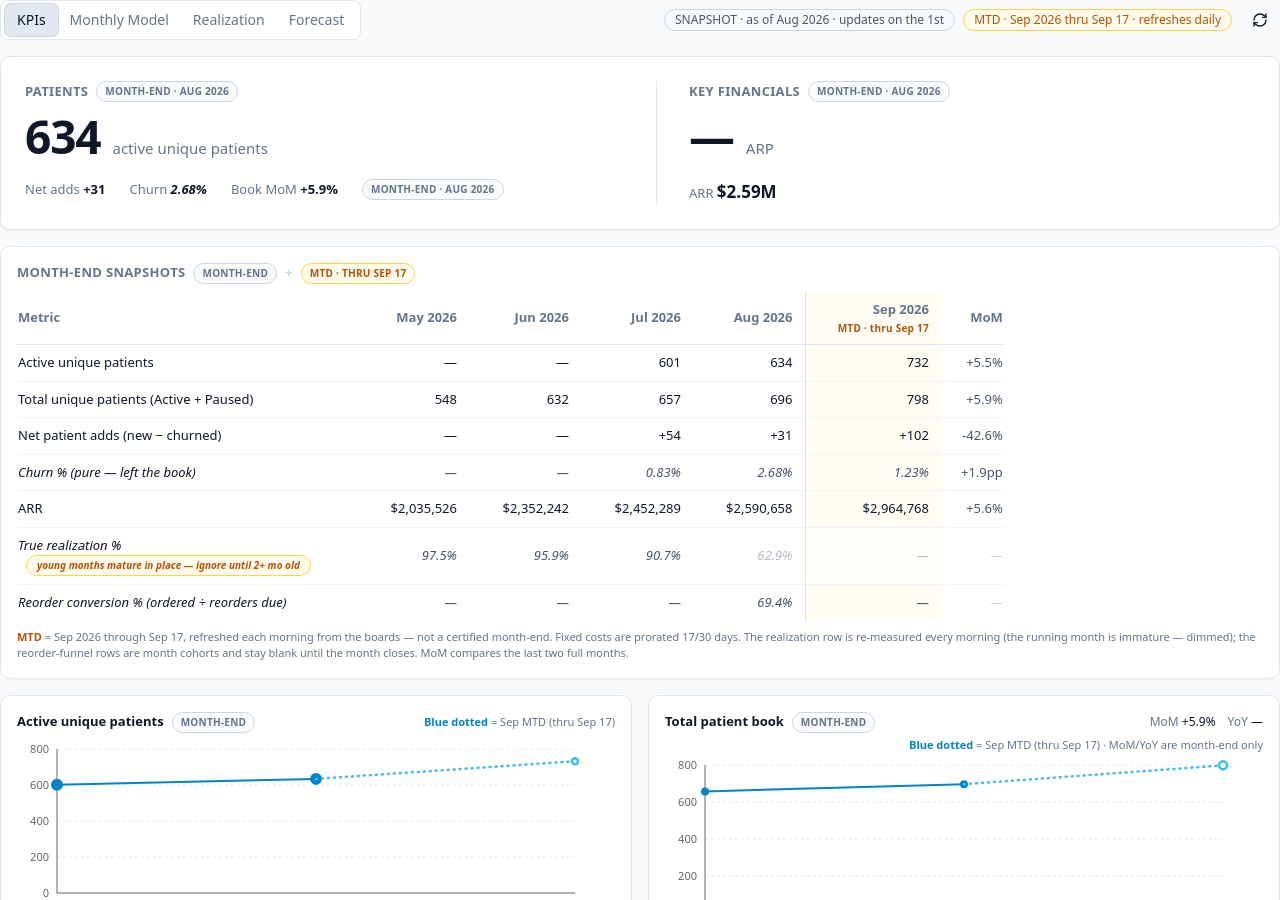
Test: FinancialsHub — MTD column › Monthly Model: MTD column last, delta rows blank for MTD, audit badge = certified month
This screenshot has width=1280, height=900.
Later steps or results of the test are not shown.
expect the column heading "Metric" is shown: met, box [17,292,357,344]
# Radix tabs activate on pointer-down, not click.
Press the mouse on the tab "Monthly Model" at (119, 20), box [58,4,181,36]
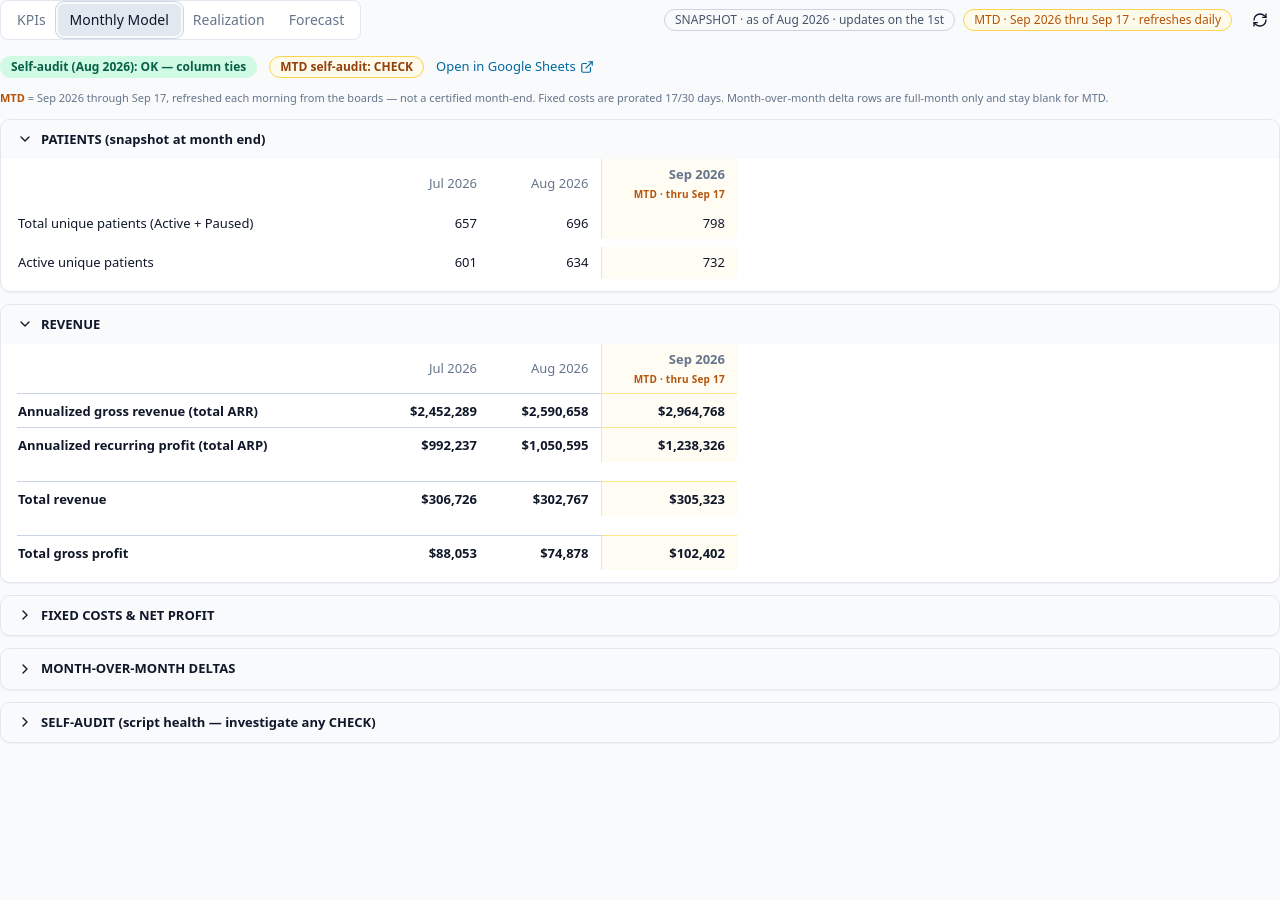
expect the text "Self-audit (Aug 2026): OK — column ties" is shown: met, box [0,56,257,78]
expect the text "MTD self-audit: CHECK" is shown: met, box [269,56,424,78]
expect the cells read "Total unique patients (Active + Paused)", "657", "696", "798", in this order: met, box [17,208,377,239]; [377,208,489,239]; [489,208,601,239]; [601,208,737,239]
Click the button "MONTH-OVER-MONTH DELTAS" at (138, 668), box [1,649,1279,688]
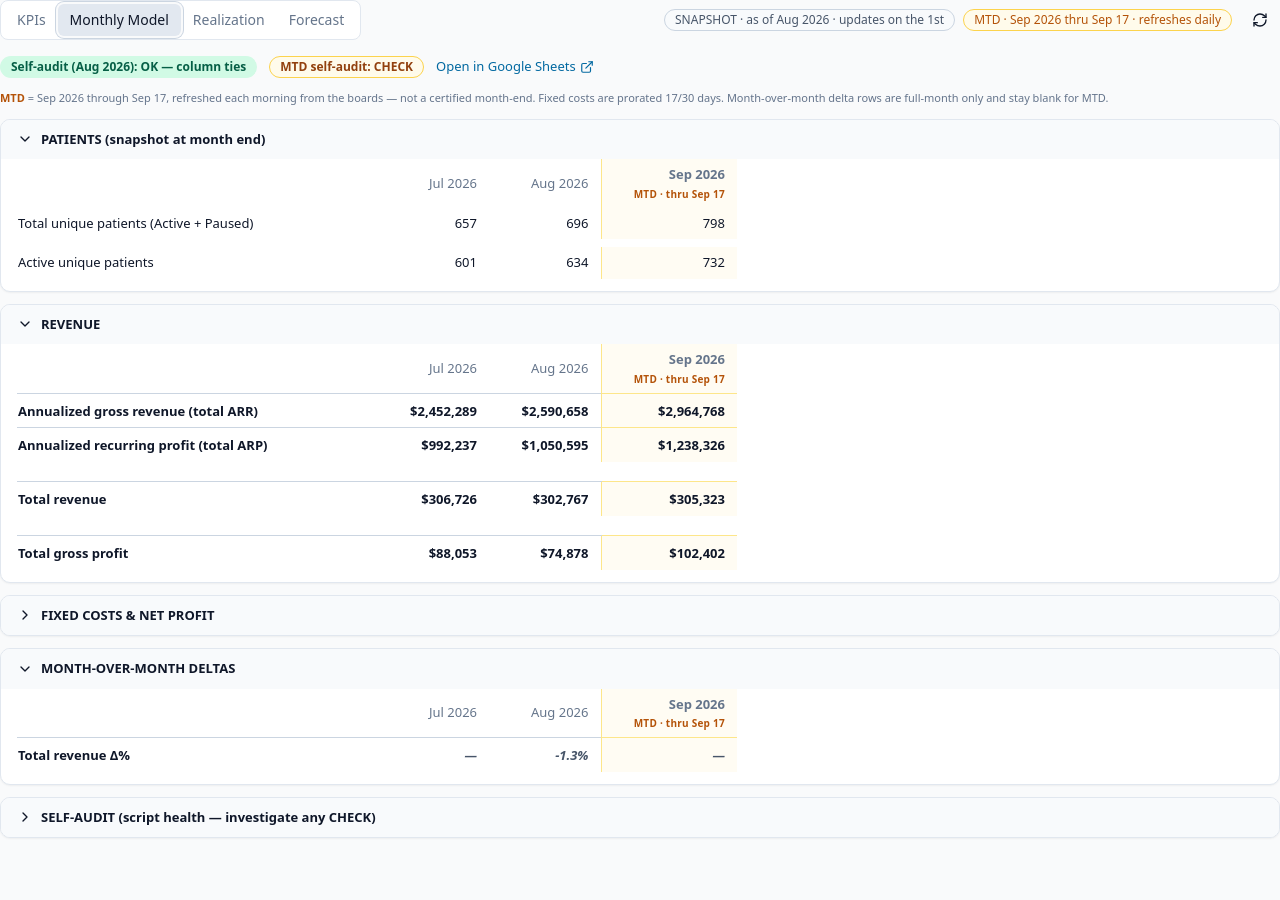
expect the cells read "Total revenue Δ%", "—", "-1.3%", "—", in this order: met, box [17,738,377,772]; [377,738,489,772]; [489,738,601,772]; [601,738,737,772]
